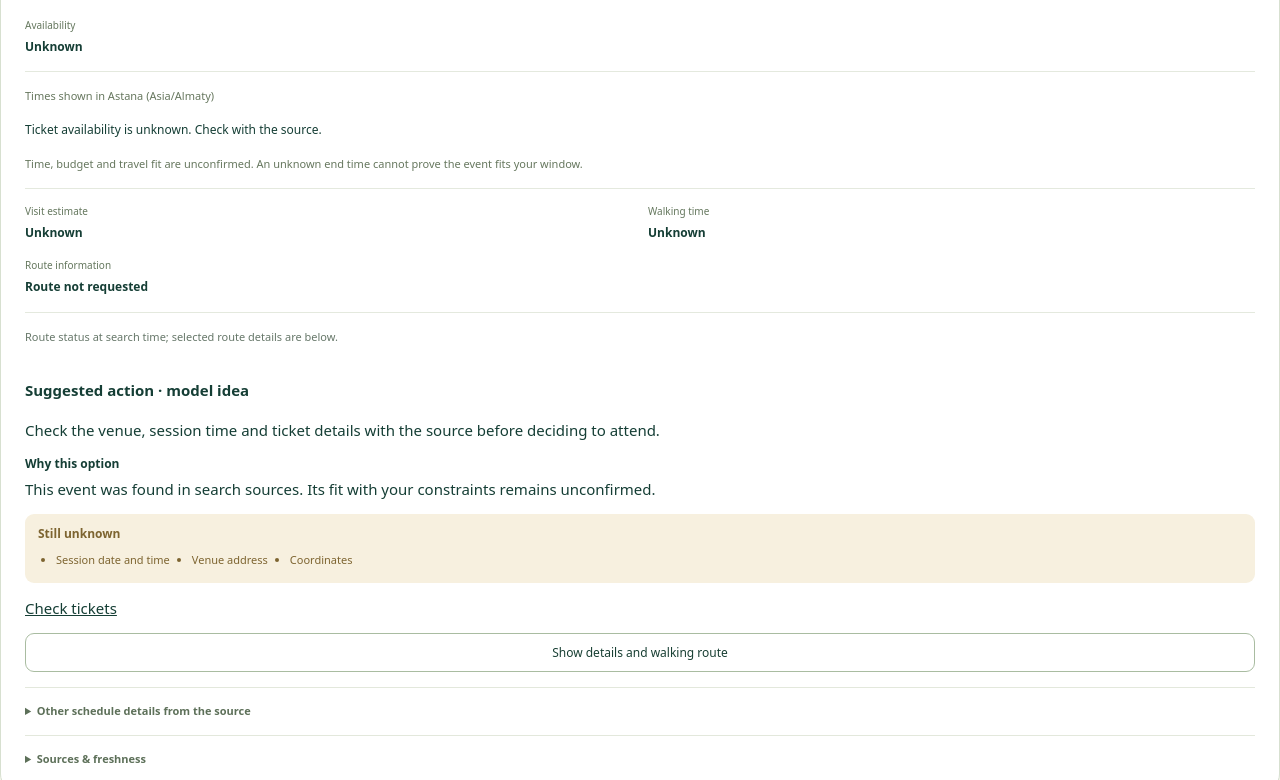
Test: transient event discovery cards › retains cancelled and unknown-start sessions only as inspectable source details in a standalone listing
(page scrolled)
Step 1. Click the heading "Other schedule details from the source" → (144, 711), box [37,703,251,718]
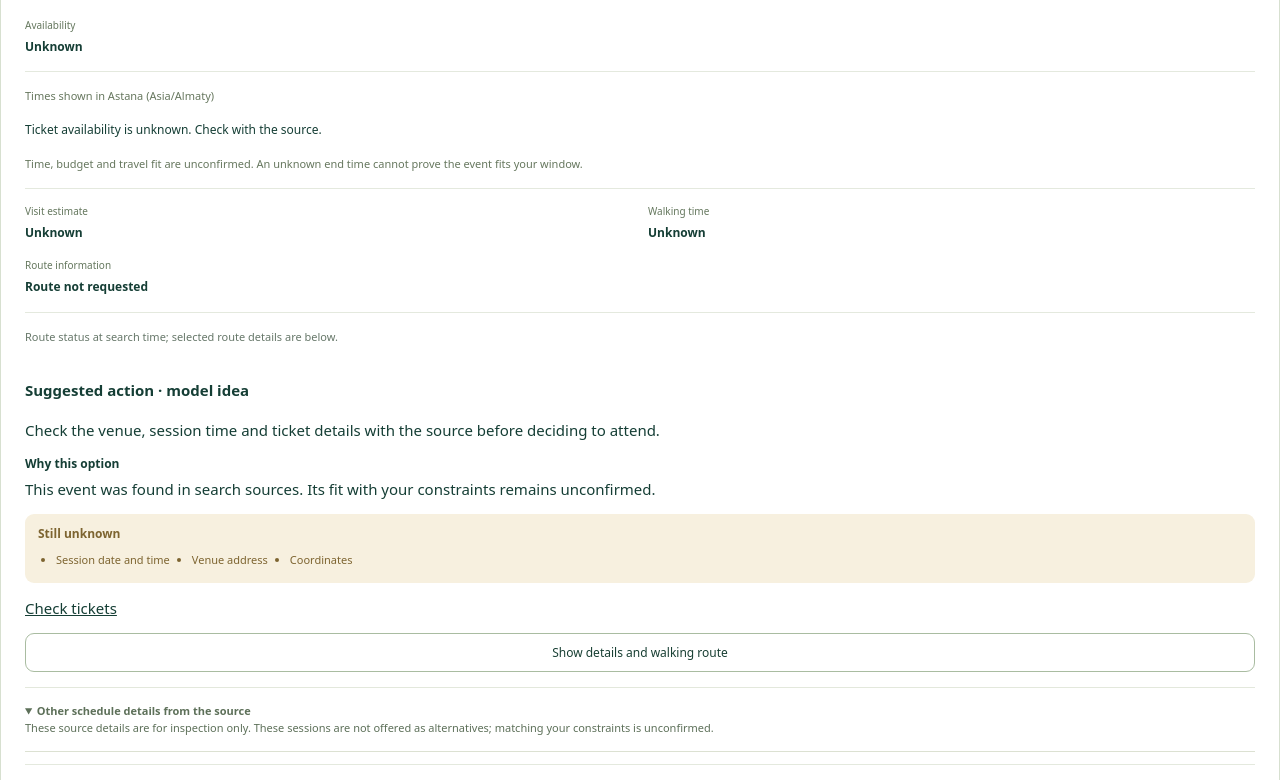
Expected: the number of buttons "Show details and walking route" is 1, [25,633,1255,672]
Expected: the text "These source details are for inspection only. These sessions are not offered as alternatives; matching your constraints " is shown, [25,720,714,735]
